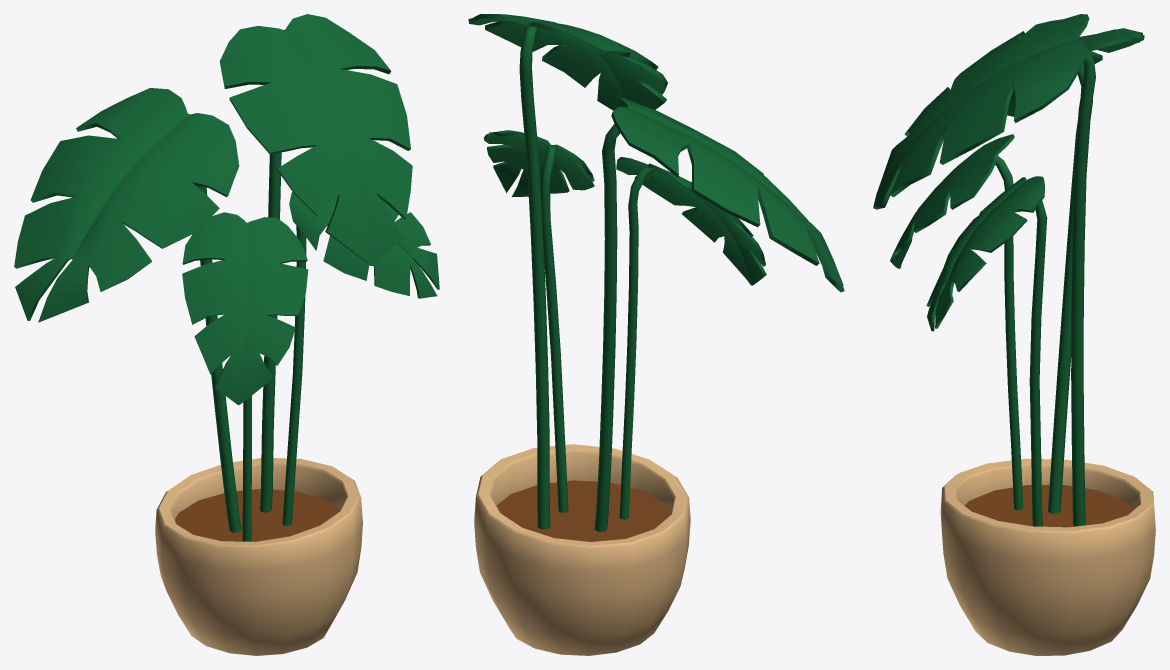
The model's file is Plant_1.fbx.
3 views of the same model, side by side, from view 1: azimuth 30°, elevation 25°; view 2: azimuth 150°, elevation 25°; view 3: azimuth 270°, elevation 25° (orthographic). The views are drawn at different scales.
Parts seen in each view (by area): view 1: Plant_1; view 2: Plant_1; view 3: Plant_1.
Part boxes in pixels (bbox=[...]): Plant_1: bbox=[14, 14, 439, 655]; Plant_1: bbox=[468, 14, 844, 655]; Plant_1: bbox=[873, 14, 1155, 655].
Size of the model in its own units: 0.892 by 1.33 by 0.5587.
